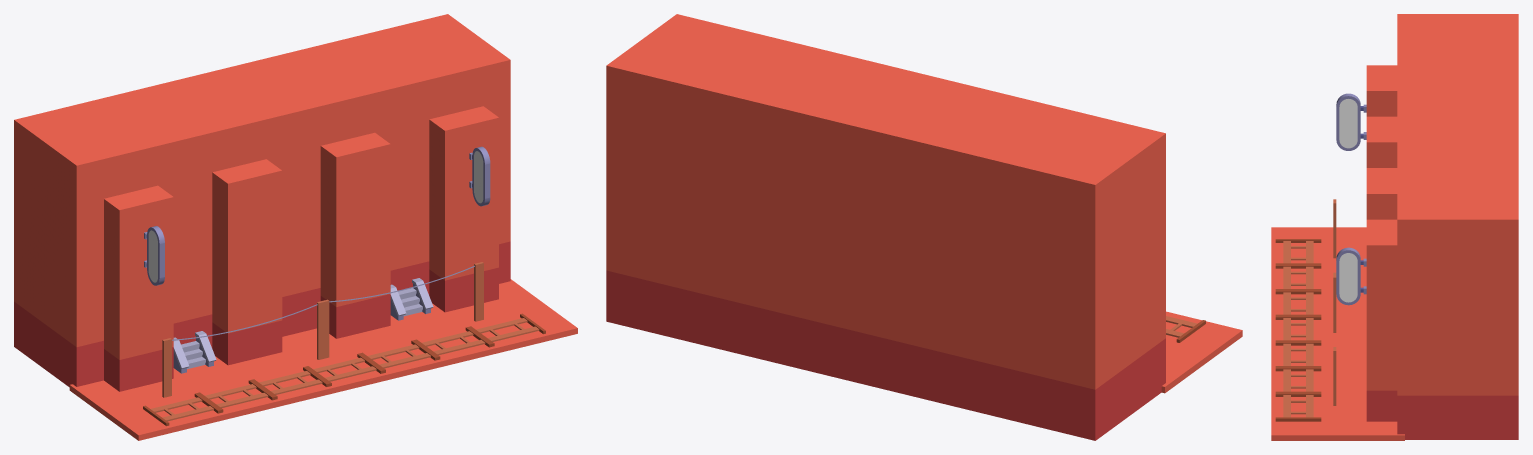
The model's file is lame_train_station.glb.
The picture shows the model from 3 angles, left to right: view 1: azimuth 30°, elevation 25°; view 2: azimuth 150°, elevation 25°; view 3: azimuth 270°, elevation 25°; orthographic projection. The views are drawn at different scales.
Parts seen in each view (by area): view 1: mergedBlocks(Clone); view 2: mergedBlocks(Clone); view 3: mergedBlocks(Clone).
Boxes of the visible parts, x1,y1,x2,y2 form: mergedBlocks(Clone): (14, 14, 577, 440); mergedBlocks(Clone): (606, 14, 1242, 440); mergedBlocks(Clone): (1271, 14, 1518, 440).
Size of the model in its own units: 8.1 by 4 by 4.07.
